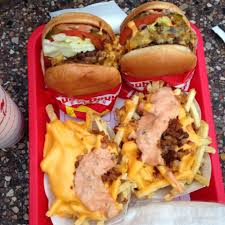hamburger: (42, 12, 121, 100), (119, 1, 198, 86)
